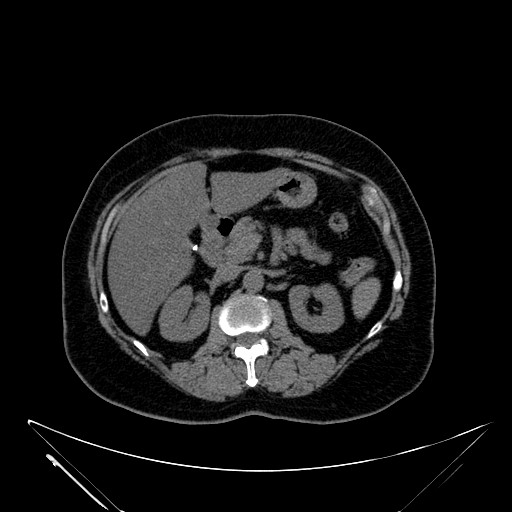clipe: (191, 244, 199, 252)
